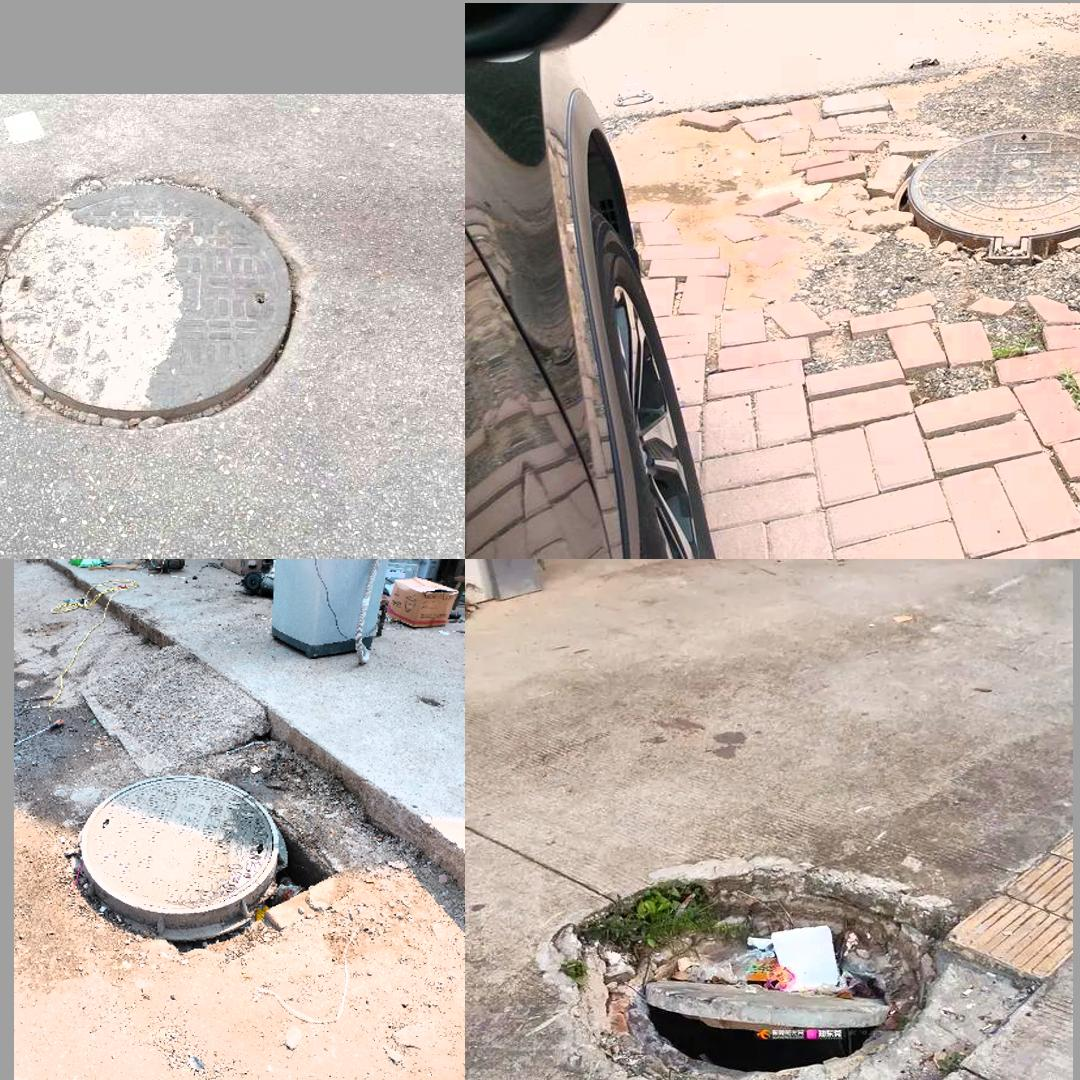circle: (518, 848, 1015, 1080), (0, 160, 311, 435), (812, 89, 1080, 311), (68, 764, 317, 947)
